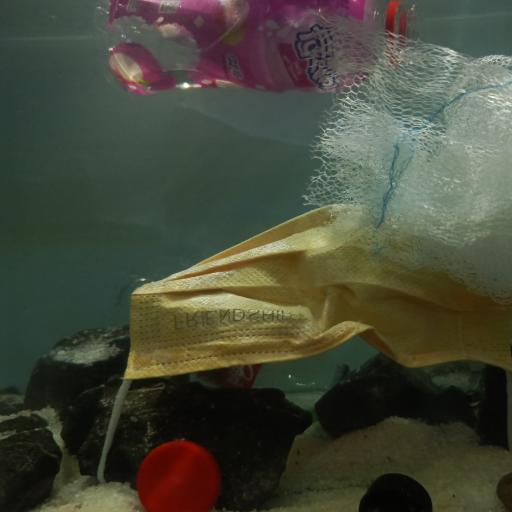bottle_cap: (135, 439, 223, 512), (356, 469, 434, 512)
mask: (126, 200, 512, 400)
net: (305, 20, 512, 308)
plastic_bottle: (93, 0, 418, 97), (112, 269, 350, 391)
